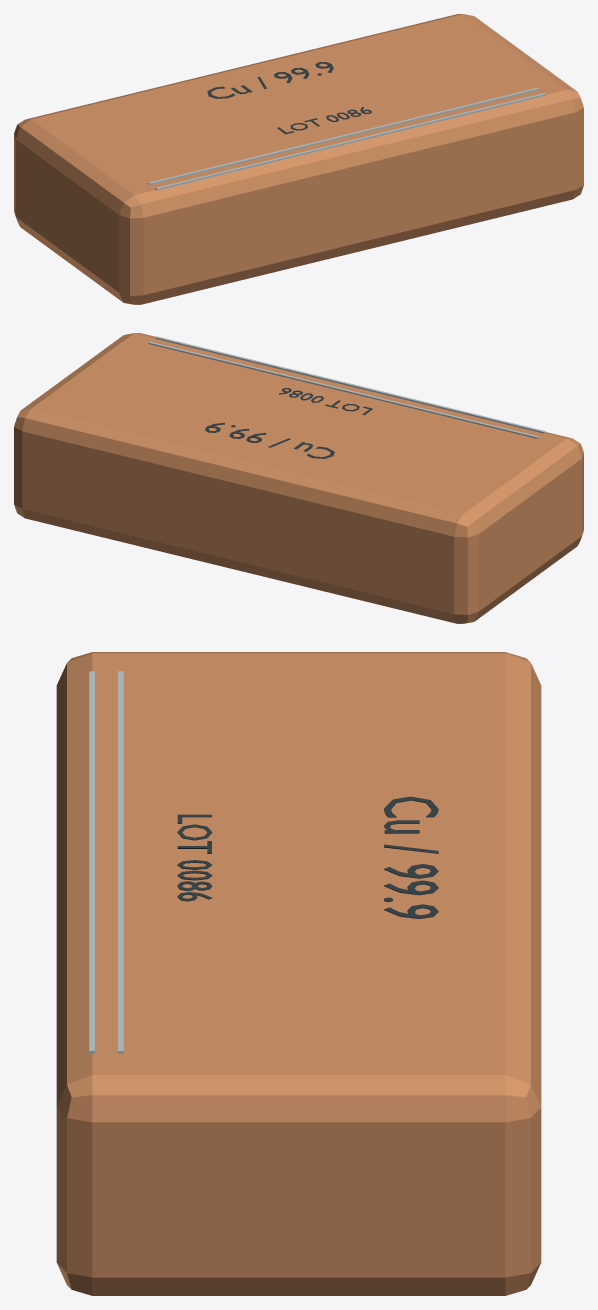
Rendered from loot_copper_ingot.glb.
3 renders of one model, top to bottom at view 1: azimuth 30°, elevation 25°; view 2: azimuth 150°, elevation 25°; view 3: azimuth 270°, elevation 25°, orthographic. The views are drawn at different scales.
Parts seen in each view (by area): view 1: loot_copper_ingot; view 2: loot_copper_ingot; view 3: loot_copper_ingot.
Part boxes in pixels (x1=…): loot_copper_ingot: x1=14, y1=14, x2=583, y2=304; loot_copper_ingot: x1=14, y1=333, x2=583, y2=623; loot_copper_ingot: x1=56, y1=652, x2=541, y2=1295.
Bounding box in the file's own units: 0.15 × 0.0351 × 0.068.
